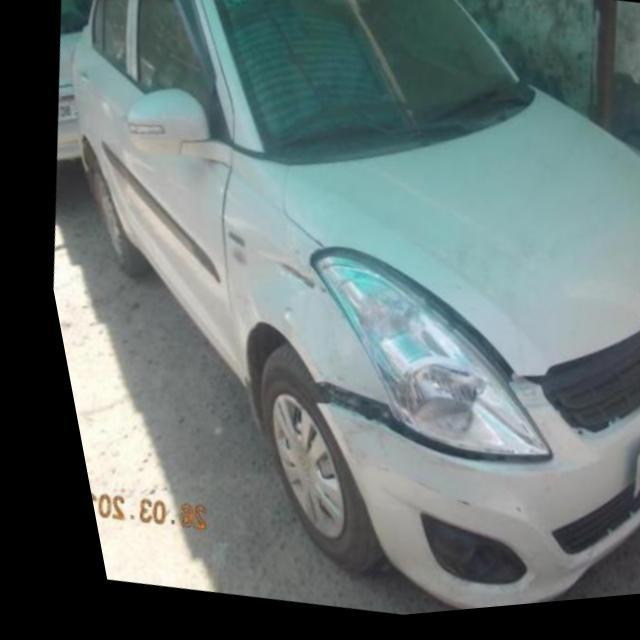crack: (265, 264, 317, 306)
dislocated part: (295, 386, 537, 475), (485, 368, 532, 410)
